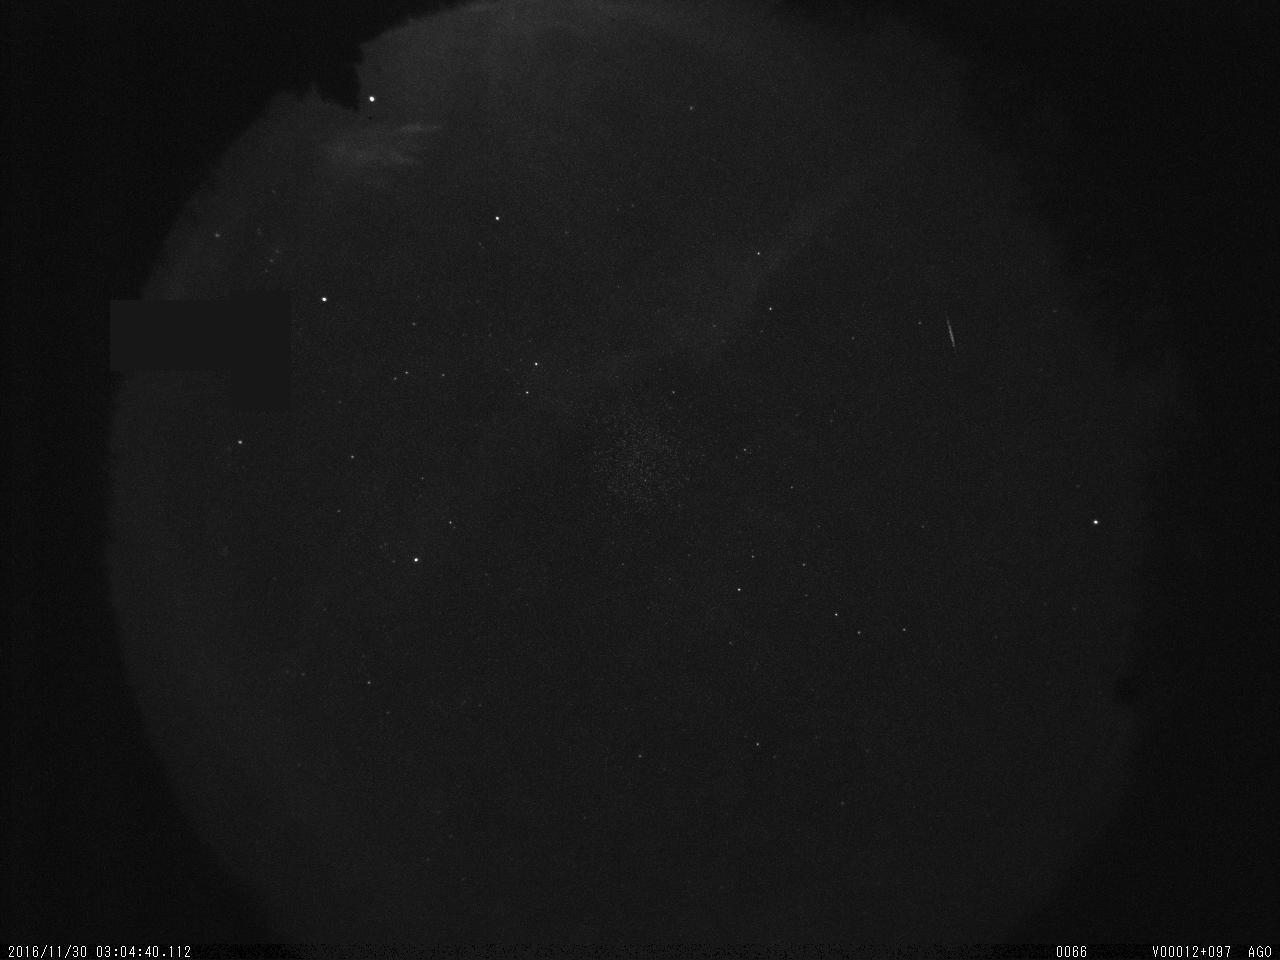meteor: (929, 302, 980, 357)
